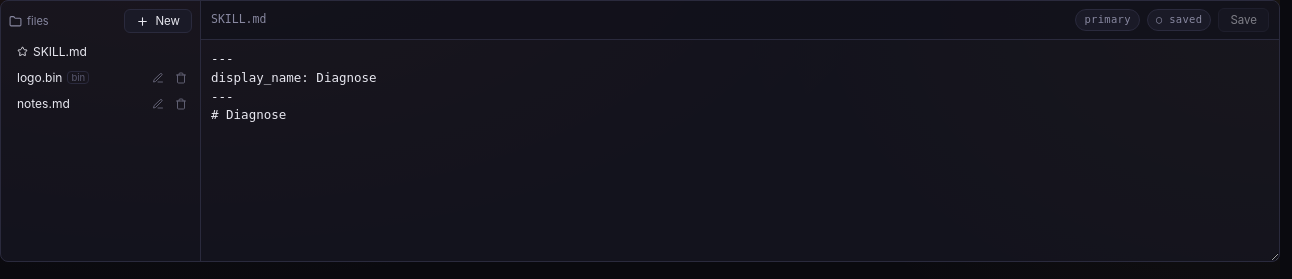
Scenario: WorkingFileEditor — buffer survives the poll (risk-b) › an unsaved edit is NOT clobbered by a 30s poll tick (dataEpoch bump)
The image size is (1292, 279).
Replace the text in the text box named "file contents" with "WIP — do not lose me" at (740, 150), box [201,40,1279,261]
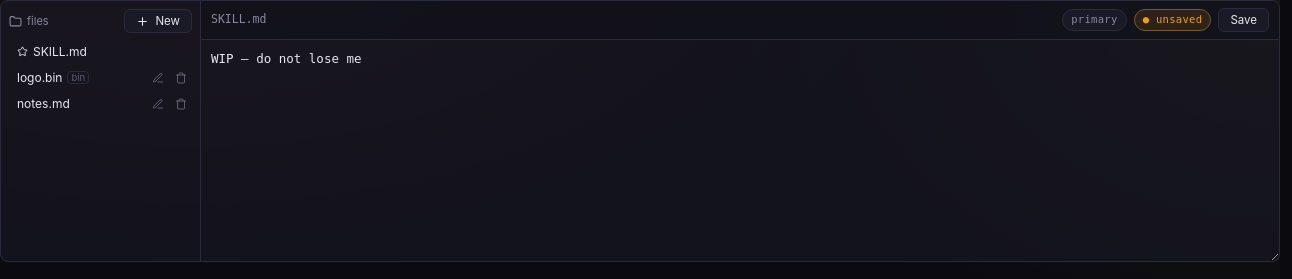
Expected: the button "Save" is enabled, [1218,8,1269,32]
